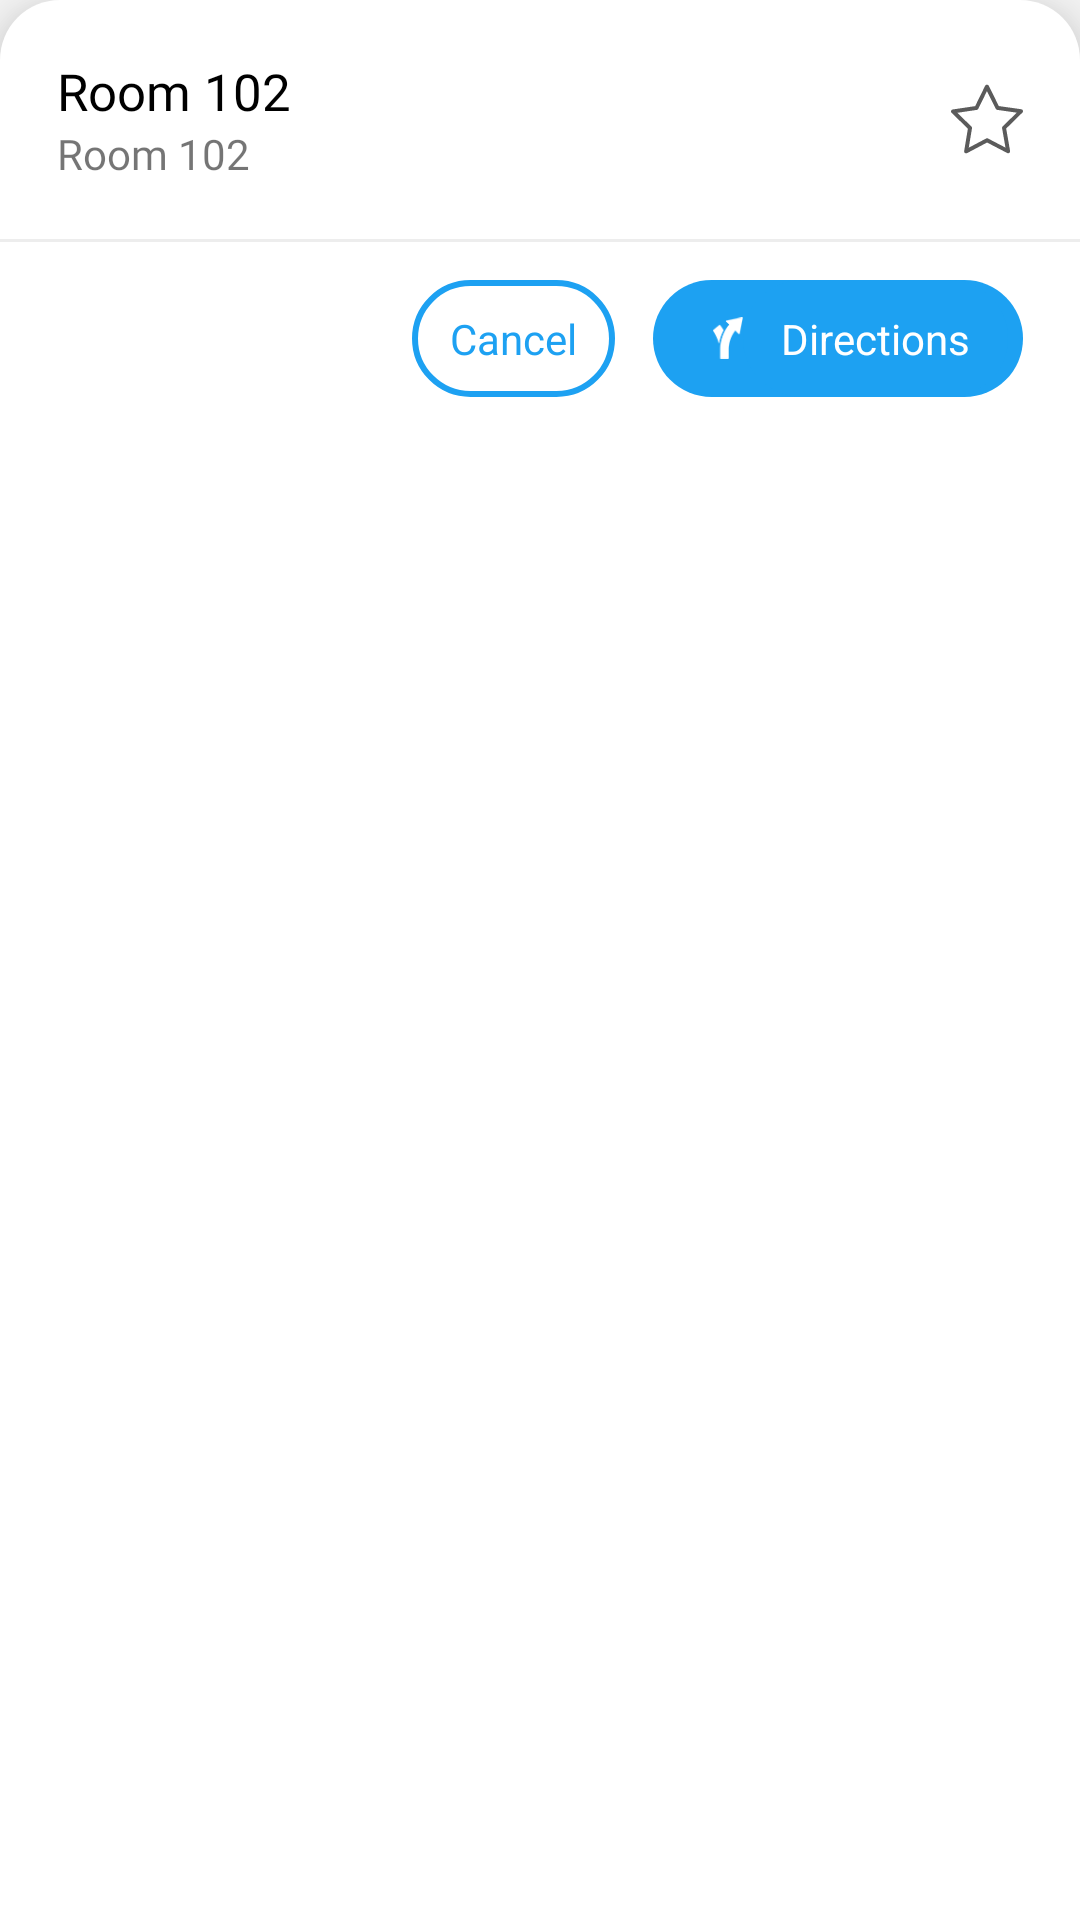

Named icons in this screenshot (1080×1920) and their centers, [x,y]:
star: [987,119]
